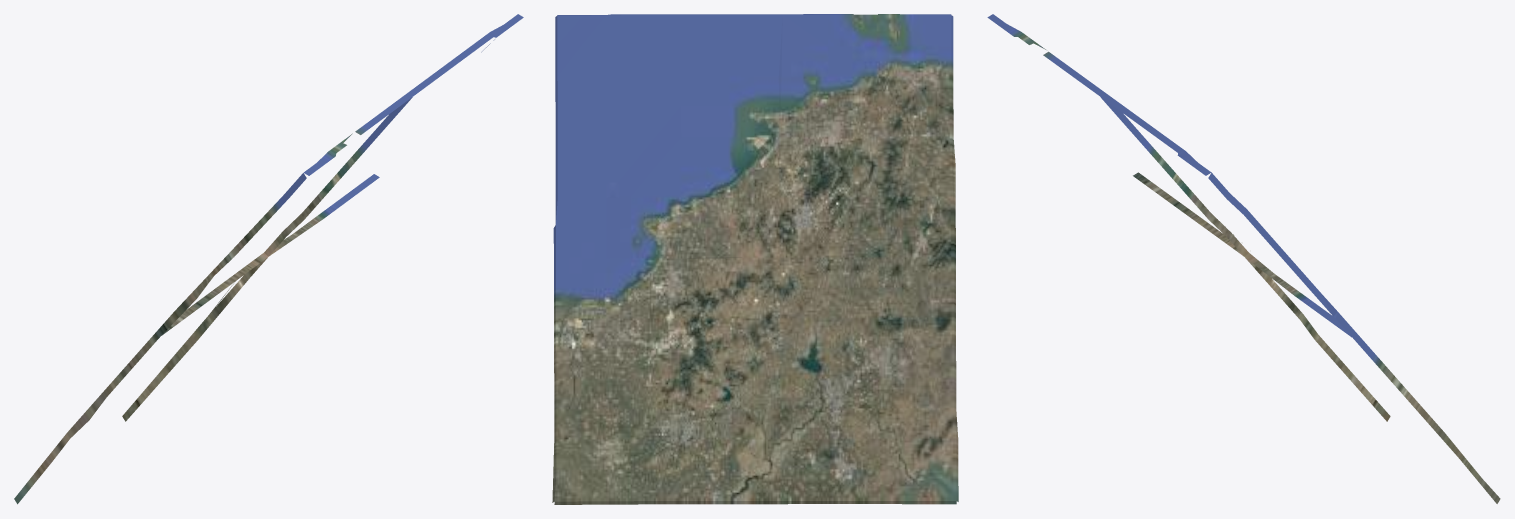
3 renders of one model, left to right at view 1: azimuth 30°, elevation 25°; view 2: azimuth 150°, elevation 25°; view 3: azimuth 270°, elevation 25°, orthographic. The views are drawn at different scales.
Size of the model in its own units: 157604 by 126904 by 146923.
Materials: 1 (1 with a texture image).
